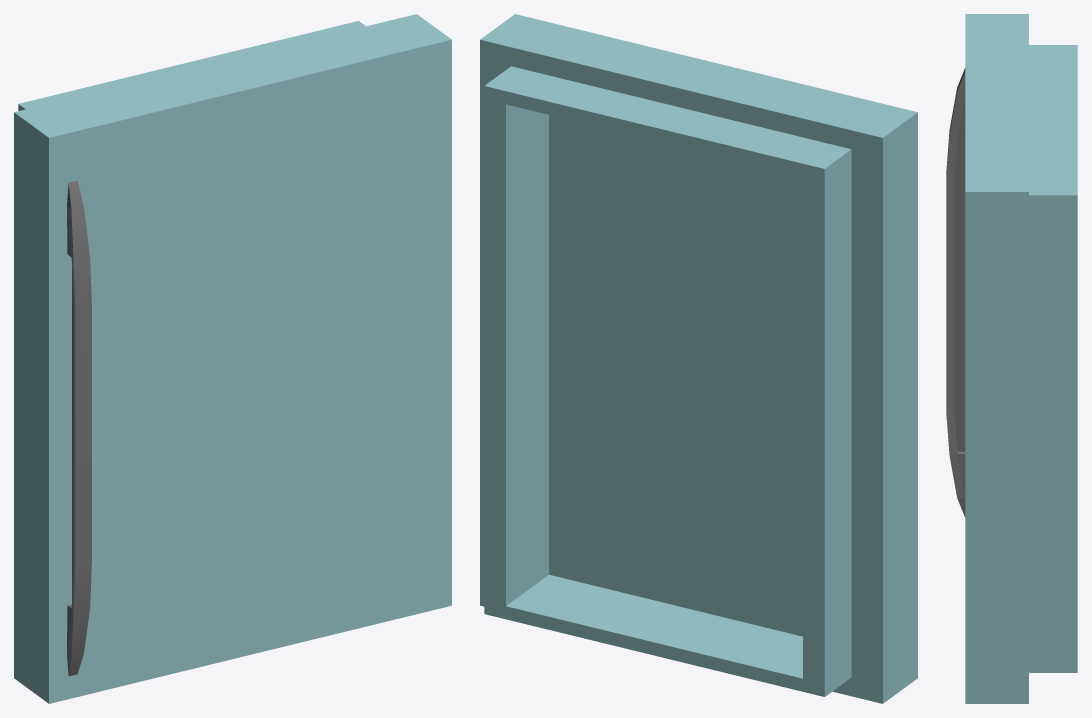
Rendered from Itr_Obj_Fridge2_Top_Door_05.FBX.
3 renders of one model, left to right at view 1: azimuth 30°, elevation 25°; view 2: azimuth 150°, elevation 25°; view 3: azimuth 270°, elevation 25°, orthographic. The views are drawn at different scales.
Parts seen in each view (by area): view 1: Itr_Obj_Fridge2_Top_Door_05; view 2: Itr_Obj_Fridge2_Top_Door_05; view 3: Itr_Obj_Fridge2_Top_Door_05.
Part boxes in pixels (x1,y1,x2,y2): Itr_Obj_Fridge2_Top_Door_05: (14,14,451,703); Itr_Obj_Fridge2_Top_Door_05: (480,14,917,703); Itr_Obj_Fridge2_Top_Door_05: (946,14,1077,703).
Size of the model in its own units: 34.44 by 46.23 by 10.74.
